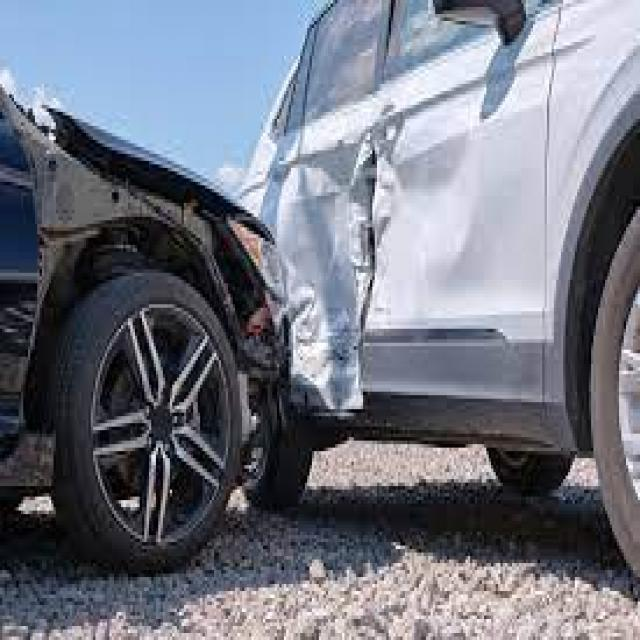accident: (0, 7, 640, 626)
